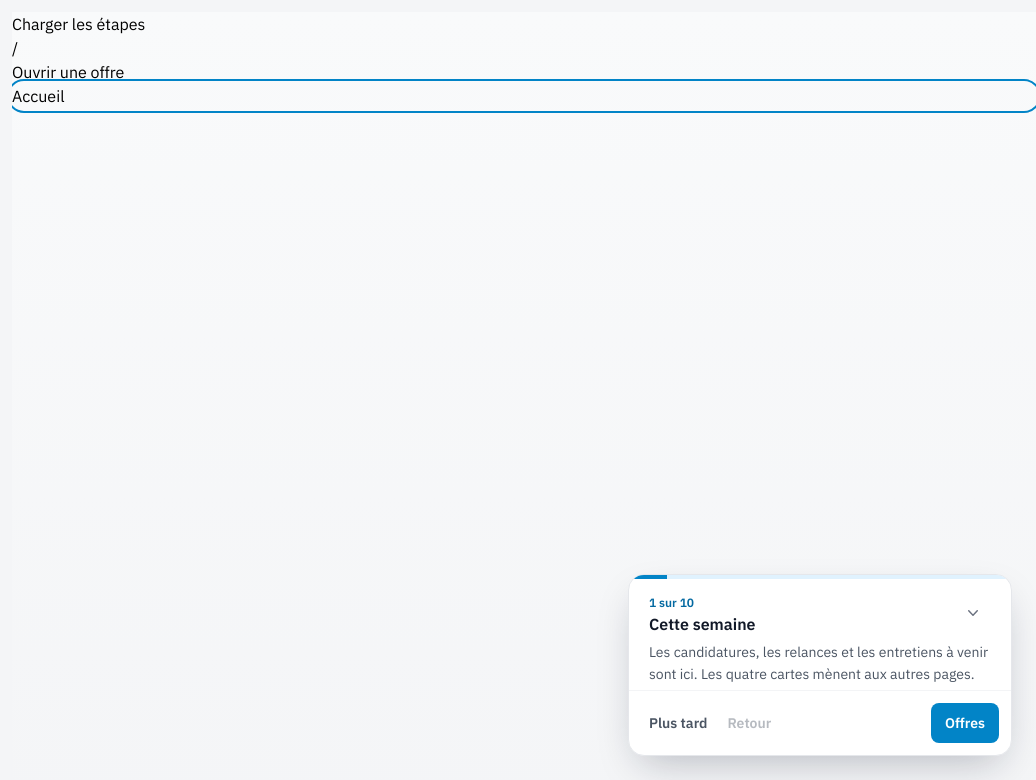
it: OnboardingTour › revient à la page précédente
The width and height of the screenshot is (1036, 780).
Click the button "Offres".
click(965, 723)  # box [931, 703, 999, 743]
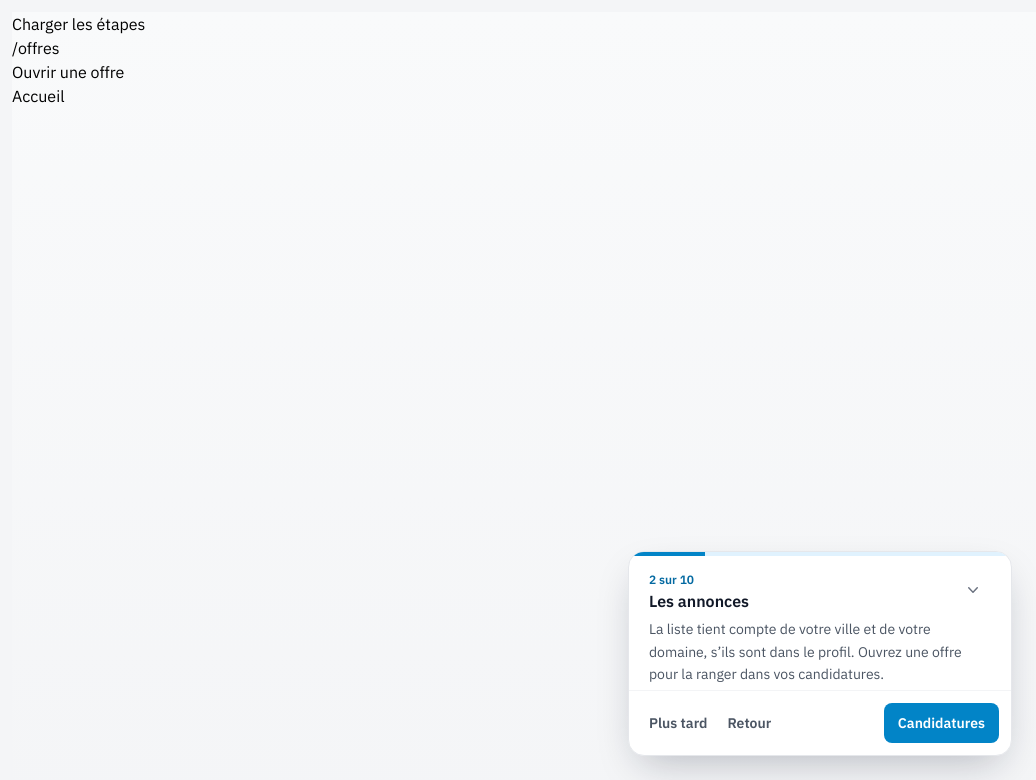
Click the button "Retour".
click(749, 723)  # box [720, 703, 779, 743]
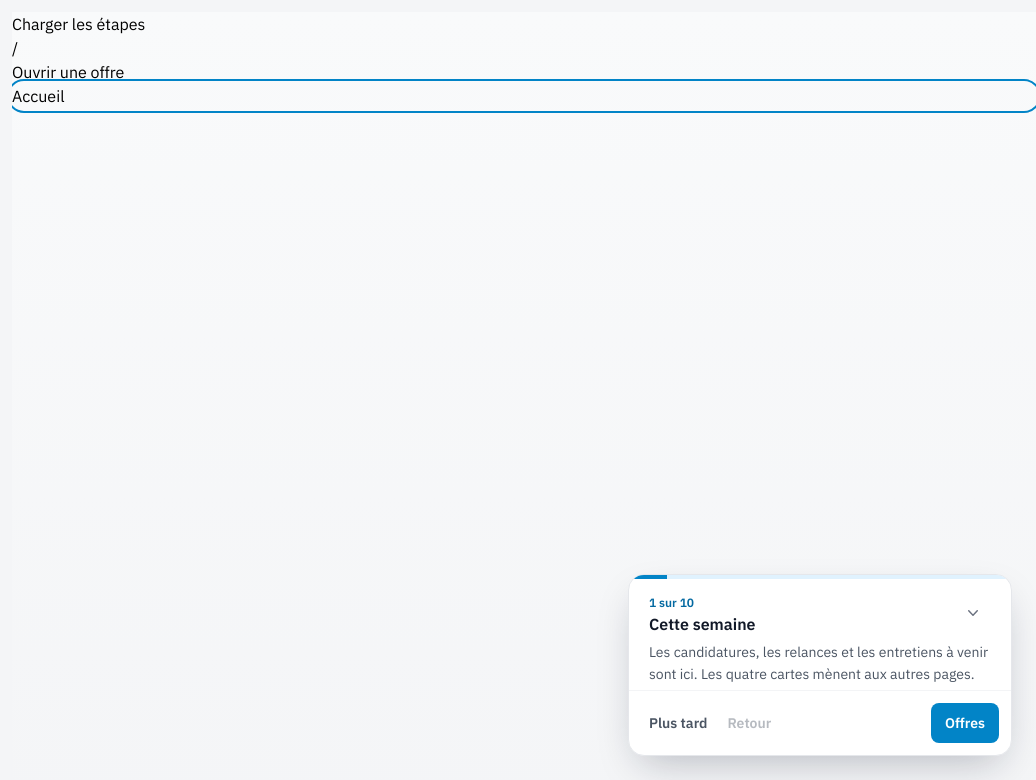
Expected: the text with test id "path" reads "/", [12, 38, 18, 58]
Now the heading "Cette semaine" is shown, box [649, 612, 756, 634]
